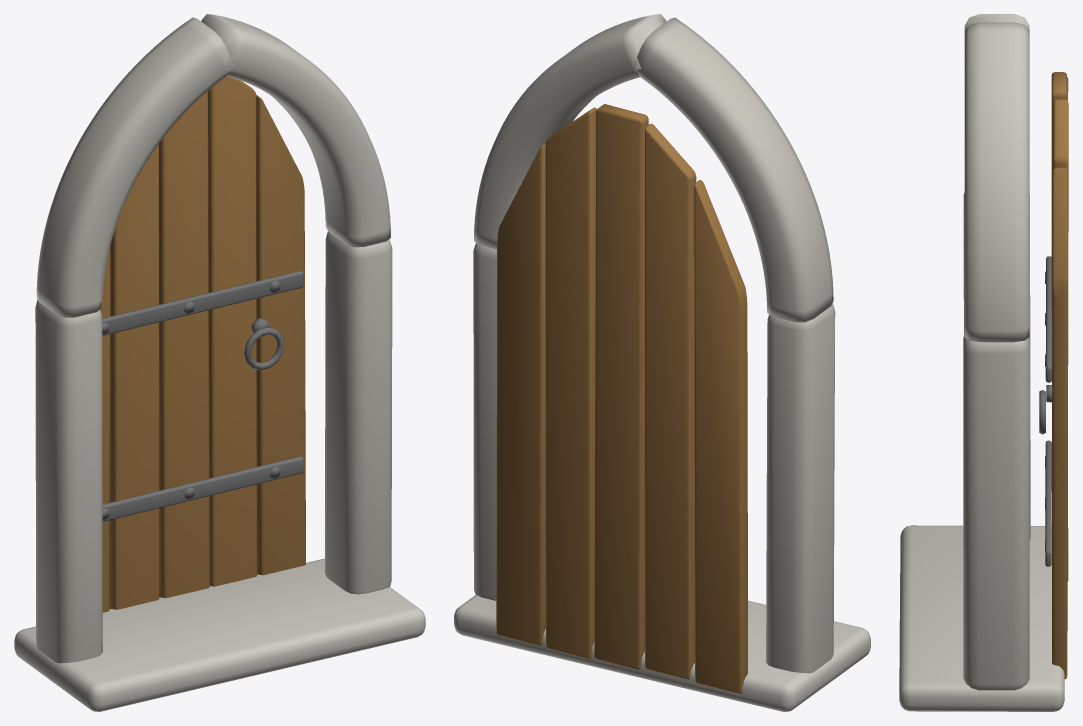
Rendered from tg_door_gothic.glb.
3 renders of one model, left to right at view 1: azimuth 30°, elevation 25°; view 2: azimuth 150°, elevation 25°; view 3: azimuth 270°, elevation 25°, orthographic. The views are drawn at different scales.
Parts seen in each view (by area): view 1: door_tg_gothic; view 2: door_tg_gothic; view 3: door_tg_gothic.
Part boxes in pixels (x1,y1,x2,y2): door_tg_gothic: (14,14,425,711); door_tg_gothic: (454,14,870,711); door_tg_gothic: (899,14,1068,711).
Bounding box in the file's own units: 1.51 × 2.67 × 0.6641.
